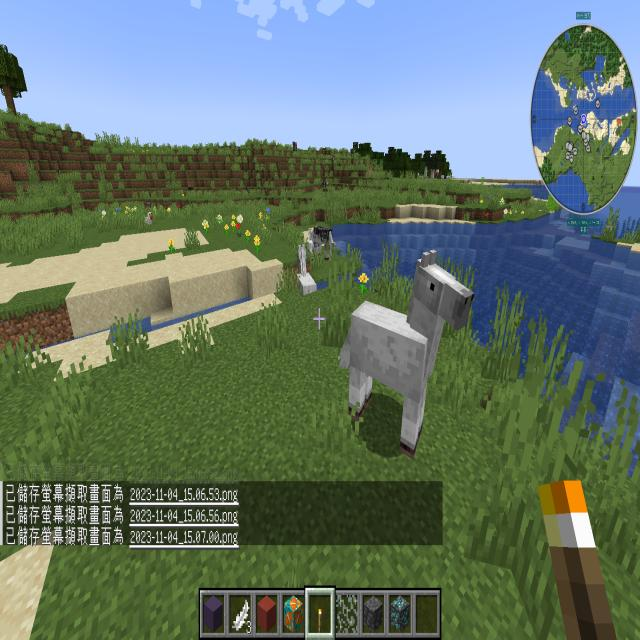chicken: (140, 203, 154, 237)
cow: (317, 175, 332, 196), (290, 135, 301, 156), (329, 151, 339, 171)
pig: (366, 166, 378, 183)
